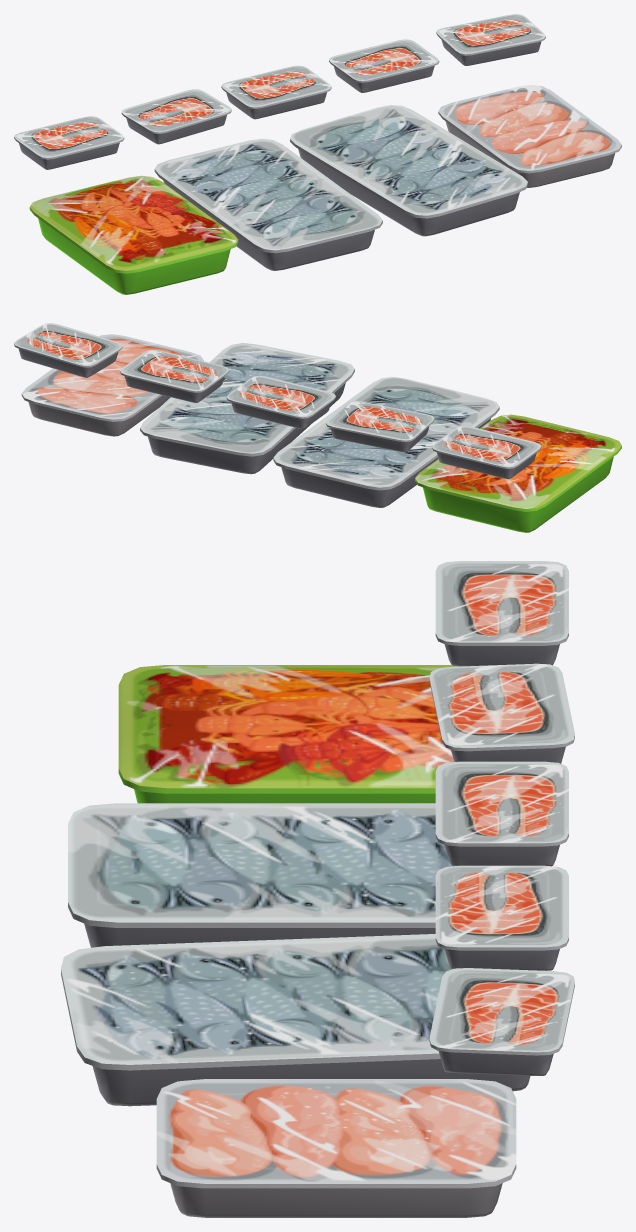
The model's file is CommFoodStuffs02_4.FBX.
3 views of the same model, one above another, from view 1: azimuth 30°, elevation 25°; view 2: azimuth 150°, elevation 25°; view 3: azimuth 270°, elevation 25° (orthographic). The views are drawn at different scales.
Parts seen in each view (by area): view 1: CommFoodStuffs02_4; view 2: CommFoodStuffs02_4; view 3: CommFoodStuffs02_4.
Part boxes in pixels (<box>): CommFoodStuffs02_4: <box>14,14,621,294</box>; CommFoodStuffs02_4: <box>14,323,621,532</box>; CommFoodStuffs02_4: <box>61,561,574,1217</box>.
Size of what is drawn, in the model's own units: 1.44 by 0.2262 by 0.6232.
